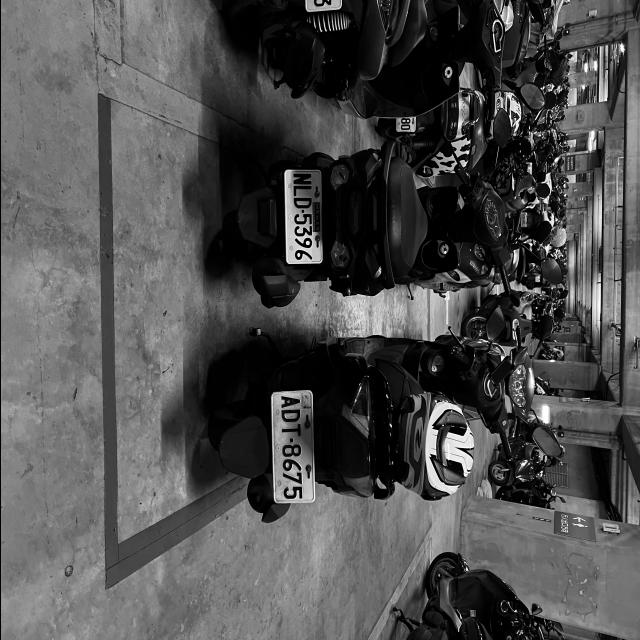-: (289, 437, 293, 442), (300, 209, 304, 213)
0: (400, 124, 410, 130)
3: (294, 225, 312, 238)
5: (282, 486, 302, 500), (293, 213, 311, 225)
6: (282, 458, 302, 472), (294, 250, 312, 261)
7: (282, 472, 302, 485)
8: (281, 443, 301, 458), (400, 118, 410, 124)
9: (294, 237, 312, 249)
A: (280, 395, 300, 409)
D: (280, 408, 301, 422), (292, 197, 312, 209)
L: (292, 186, 312, 197)
N: (292, 173, 312, 185)
T: (280, 422, 300, 438)
plate: (272, 394, 312, 502), (287, 172, 319, 264)
